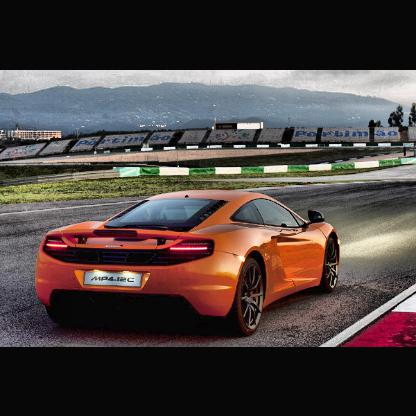McLaren MP4-12C Coupe 2012: (38, 192, 342, 338)
